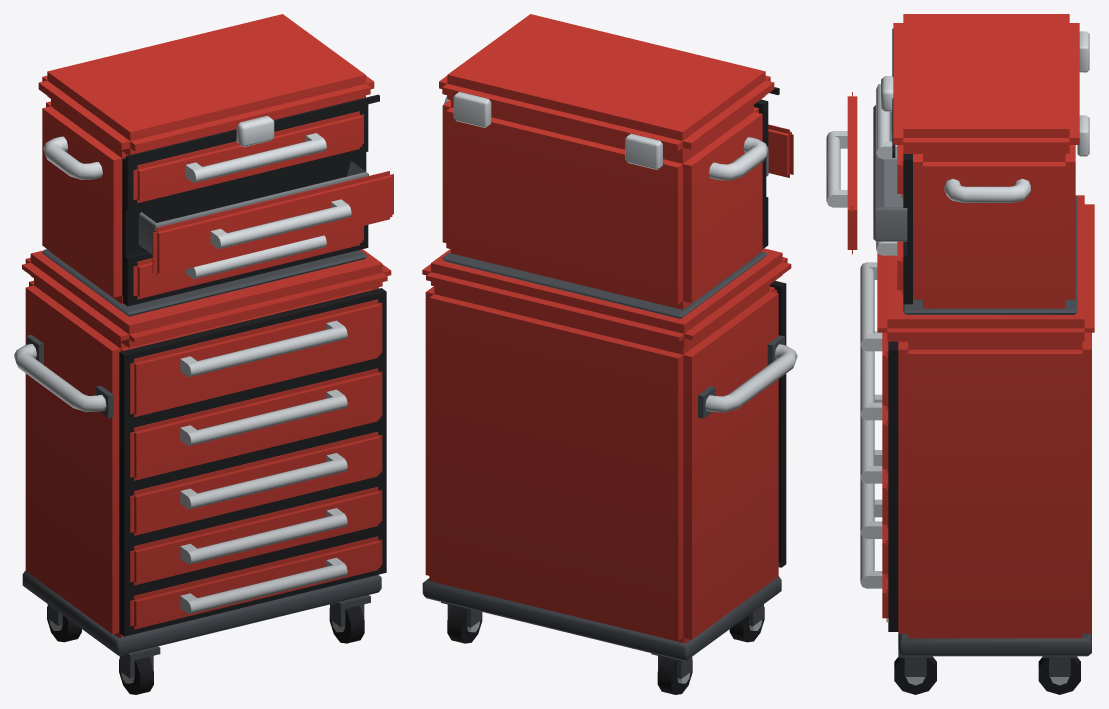
The model's file is SM_ToolChest_Stack_01.glb.
3 renders of one model, left to right at view 1: azimuth 30°, elevation 25°; view 2: azimuth 150°, elevation 25°; view 3: azimuth 270°, elevation 25°, orthographic.
Parts seen in each view (by area): view 1: SM_ToolChest_Stack_01; view 2: SM_ToolChest_Stack_01; view 3: SM_ToolChest_Stack_01.
Boxes of the visible parts, x1=… form: SM_ToolChest_Stack_01: x1=14, y1=14, x2=393, y2=694; SM_ToolChest_Stack_01: x1=422, y1=14, x2=797, y2=694; SM_ToolChest_Stack_01: x1=826, y1=14, x2=1094, y2=694.
Size of the model in its own units: 0.7249 by 1.26 by 0.5395.
1 material, 1 textured.
